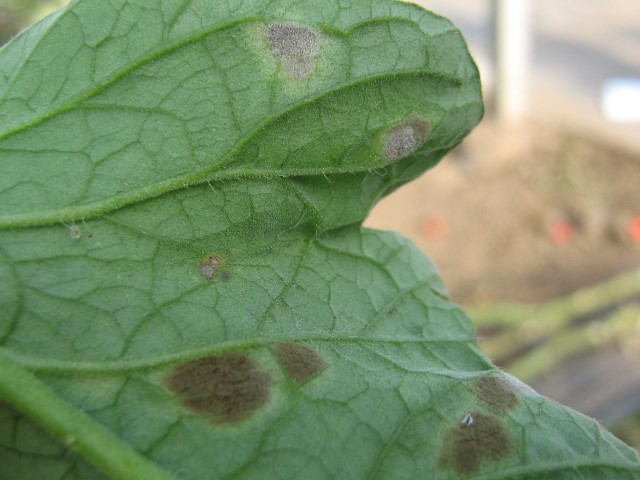cladosporium: (162, 348, 275, 426), (439, 403, 522, 469), (266, 21, 322, 80), (381, 108, 429, 161), (273, 336, 323, 385), (471, 371, 520, 409), (197, 249, 230, 282)
